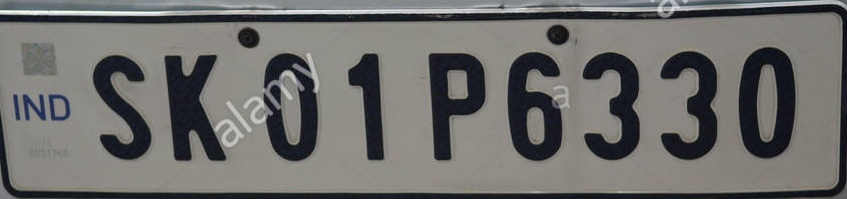character: (160, 51, 232, 166), (86, 51, 156, 163), (423, 48, 489, 164), (259, 51, 326, 165), (579, 48, 645, 163), (504, 50, 568, 168), (656, 49, 723, 160), (736, 43, 799, 160), (342, 48, 389, 166)
